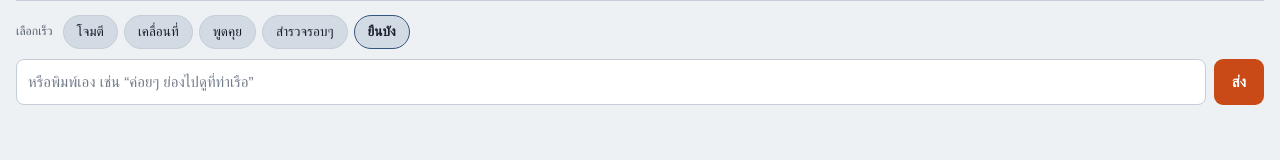
ActionInput › class ability button › uses the custom empty-list message when one is given
The image size is (1280, 160).
Click the button "ยืนบัง": (382, 32) [354,15,410,49]
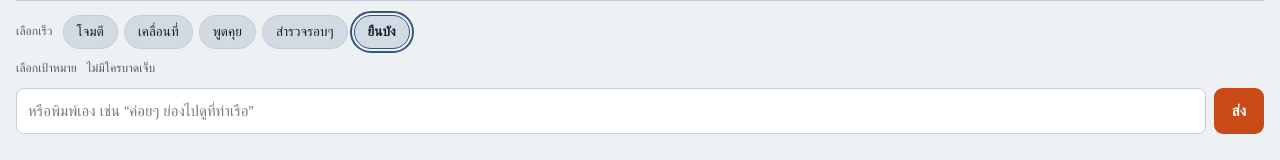
Result: the text "ไม่มีใครบาดเจ็บ" is shown at [87,59,155,78]
